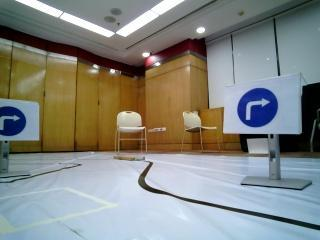right: (228, 85, 302, 130), (3, 98, 41, 136)
